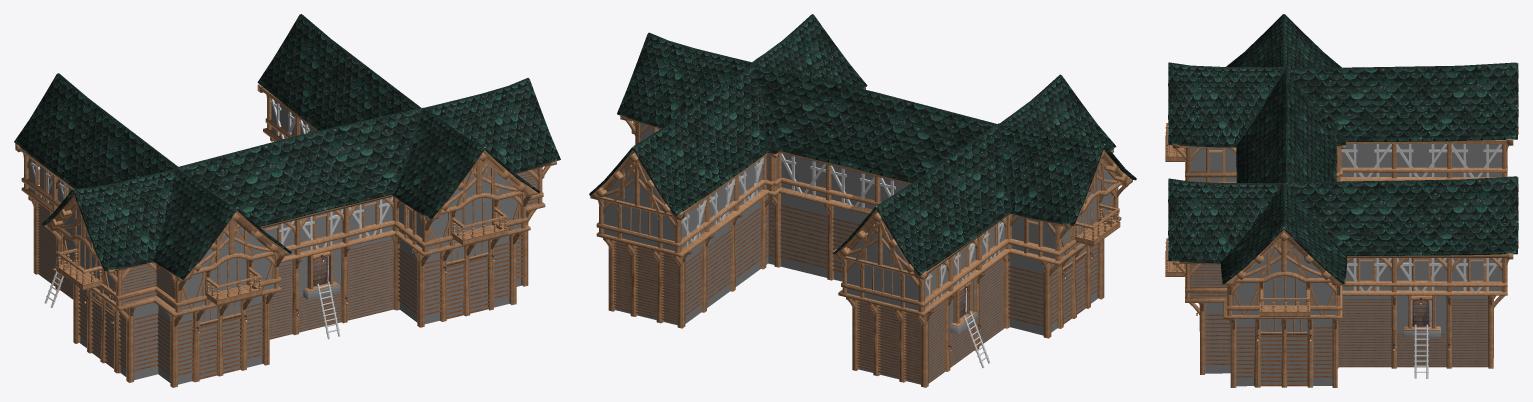
The model's file is oph_house_03.fbx.
3 views of the same model, side by side, from view 1: azimuth 30°, elevation 25°; view 2: azimuth 150°, elevation 25°; view 3: azimuth 270°, elevation 25° (orthographic). The views are drawn at different scales.
Visible parts, largest first — view 1: cop_02_D, cop_02_B, cop_02_I, cop_02_G, Plane_018_Plane_020, cop_02_R, cop_02_K, cop_02_L, Plane_020_Plane_022, cop_02_A, Plane_021_Plane_023, Plane_033_Plane_034 (+11 smaller); view 2: cop_02_D, cop_02_B, cop_02_I, cop_02_G, Plane_026_Plane_001, Plane_036_Plane_037, cop_02_L, Plane_027_Plane_028, Cube_002_Cube_003, cop_02_K, cop_02_A, Plane_024_Plane_026 (+15 smaller); view 3: cop_02_D, cop_02_B, cop_02_I, cop_02_G, cop_02_L, cop_02_A, cop_02_R, cop_02_K, Plane_018_Plane_020, Cube_002_Cube_003, Plane_020_Plane_022, Plane_021_Plane_023 (+14 smaller).
Boxes of the visible parts, bbox=[...] form: cop_02_D: bbox=[14, 14, 560, 279]; cop_02_B: bbox=[15, 84, 550, 387]; cop_02_I: bbox=[39, 203, 521, 384]; cop_02_G: bbox=[63, 100, 537, 310]; Plane_018_Plane_020: bbox=[91, 256, 488, 379]; cop_02_R: bbox=[56, 167, 544, 305]; cop_02_K: bbox=[80, 198, 491, 322]; cop_02_L: bbox=[57, 14, 529, 209]; Plane_020_Plane_022: bbox=[269, 274, 394, 339]; cop_02_A: bbox=[29, 158, 422, 256]; Plane_021_Plane_023: bbox=[269, 239, 394, 303]; Plane_033_Plane_034: bbox=[78, 259, 440, 358]; cop_02_D: bbox=[589, 15, 1136, 276]; cop_02_B: bbox=[590, 87, 1132, 387]; cop_02_I: bbox=[615, 193, 1097, 384]; cop_02_G: bbox=[603, 154, 1114, 310]; Plane_026_Plane_001: bbox=[614, 273, 920, 382]; Plane_036_Plane_037: bbox=[734, 205, 827, 278]; cop_02_L: bbox=[634, 14, 1105, 210]; Plane_027_Plane_028: bbox=[614, 240, 920, 346]; Cube_002_Cube_003: bbox=[681, 153, 895, 246]; cop_02_K: bbox=[622, 196, 1096, 296]; cop_02_A: bbox=[622, 123, 1055, 307]; Plane_024_Plane_026: bbox=[615, 274, 920, 382]; cop_02_D: bbox=[1168, 15, 1518, 284]; cop_02_B: bbox=[1173, 70, 1518, 387]; cop_02_I: bbox=[1205, 295, 1487, 386]; cop_02_G: bbox=[1190, 144, 1502, 314]; cop_02_L: bbox=[1168, 14, 1517, 254]; cop_02_A: bbox=[1190, 147, 1502, 290]; cop_02_R: bbox=[1165, 123, 1310, 316]; cop_02_K: bbox=[1260, 276, 1307, 331]; Plane_018_Plane_020: bbox=[1260, 335, 1307, 386]; Cube_002_Cube_003: bbox=[1341, 144, 1502, 177]; Plane_020_Plane_022: bbox=[1338, 333, 1391, 367]; Plane_021_Plane_023: bbox=[1338, 299, 1391, 332].
Bounding box in the file's own units: 238 × 89.47 × 164.
